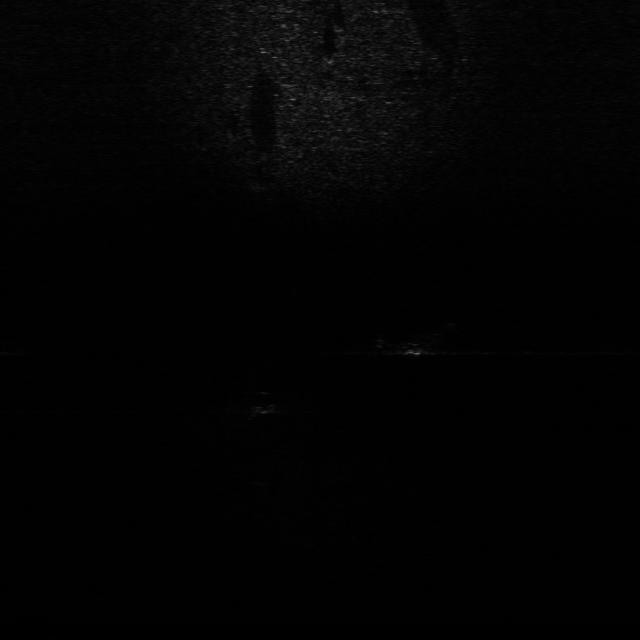ball: (242, 386, 282, 418)
human body: (349, 318, 462, 359)
